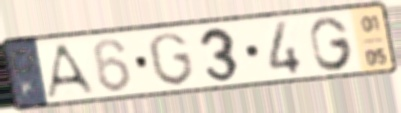3: (198, 24, 247, 86)
4: (267, 17, 304, 78)
6: (90, 36, 133, 94)
A: (44, 41, 99, 101)
G: (146, 30, 198, 88), (307, 14, 356, 73)
